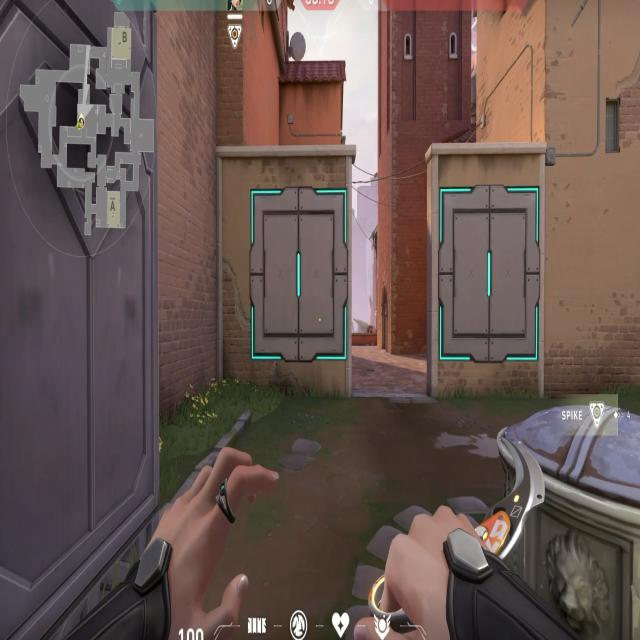Mid_Wall: (432, 180, 544, 382), (249, 179, 351, 384)
